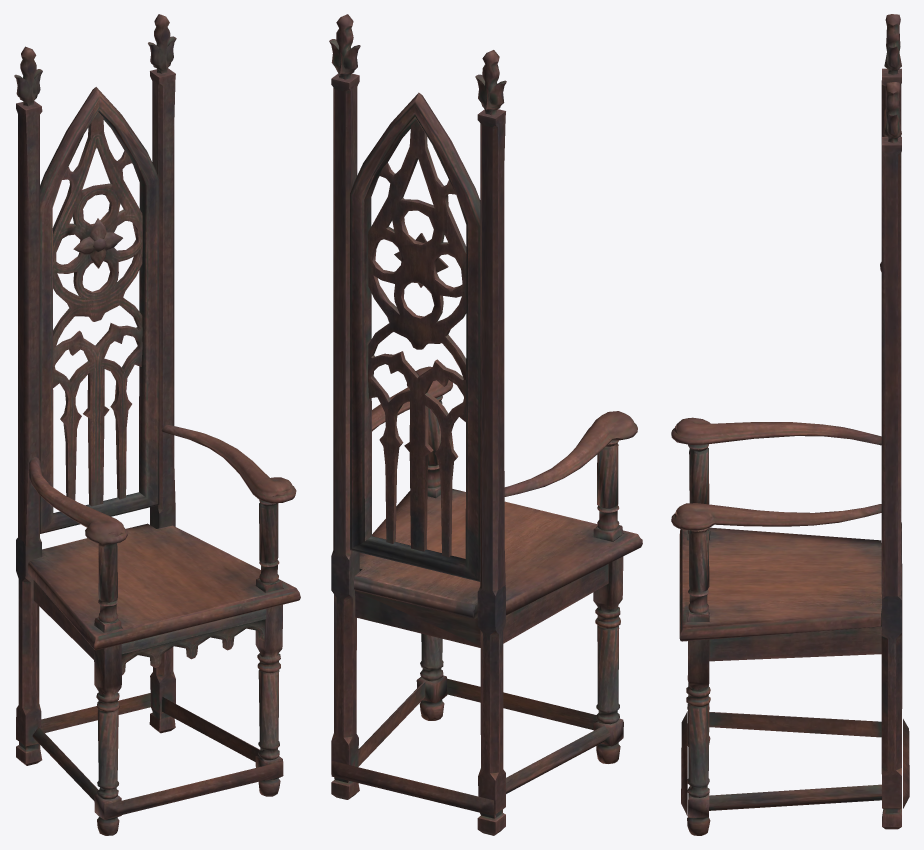
The model's file is wood_chair_01.glb.
The picture shows the model from 3 angles, left to right: view 1: azimuth 30°, elevation 25°; view 2: azimuth 150°, elevation 25°; view 3: azimuth 270°, elevation 25°; orthographic projection. The views are drawn at different scales.
Visible parts, largest first — view 1: WoodChair01; view 2: WoodChair01; view 3: WoodChair01.
Boxes of the visible parts, x1=… form: WoodChair01: x1=14, y1=14, x2=300, y2=835; WoodChair01: x1=329, y1=14, x2=642, y2=835; WoodChair01: x1=671, y1=14, x2=909, y2=835.
Size of the model in its own units: 0.6876 by 2.27 by 0.6602.
Materials: 1 (1 with a texture image).
